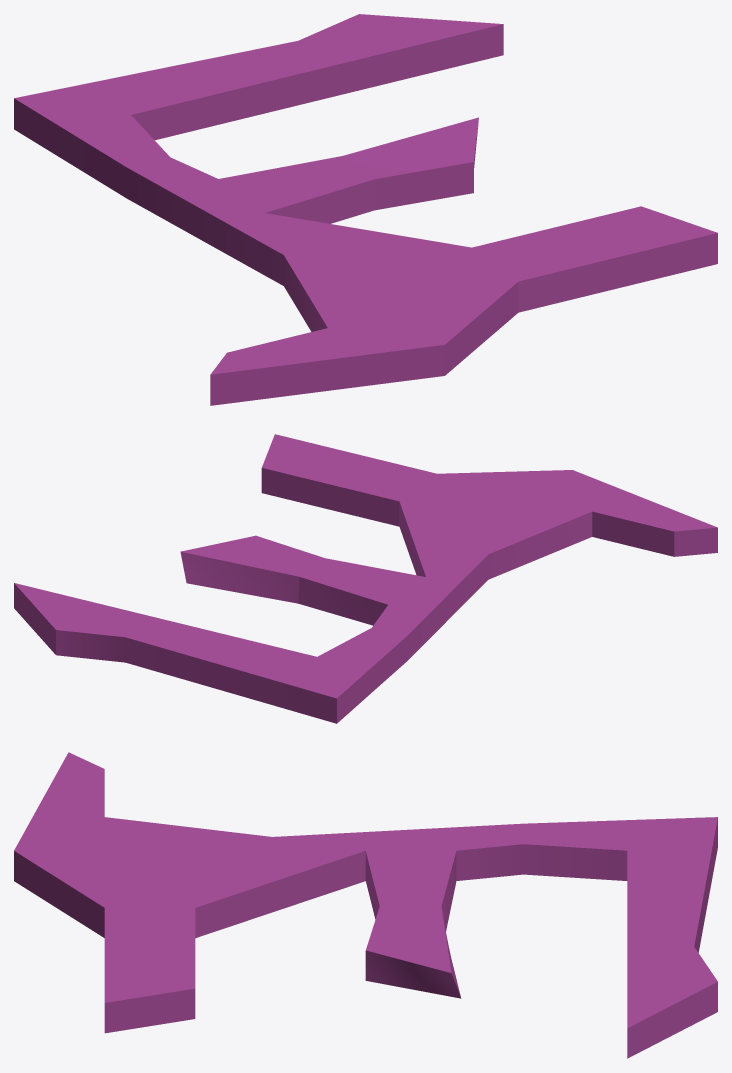
Rendered from Rune_Prop_2_Model.fbx.
3 renders of one model, top to bottom at view 1: azimuth 30°, elevation 25°; view 2: azimuth 150°, elevation 25°; view 3: azimuth 270°, elevation 25°, orthographic. The views are drawn at different scales.
Visible parts, largest first — view 1: polySurface2; view 2: polySurface2; view 3: polySurface2.
Boxes of the visible parts, <box> form: polySurface2: <box>14,14,717,405</box>; polySurface2: <box>14,434,717,723</box>; polySurface2: <box>14,752,717,1058</box>.
Size of the model in its own units: 0.5816 by 0.0309 by 0.6265.
